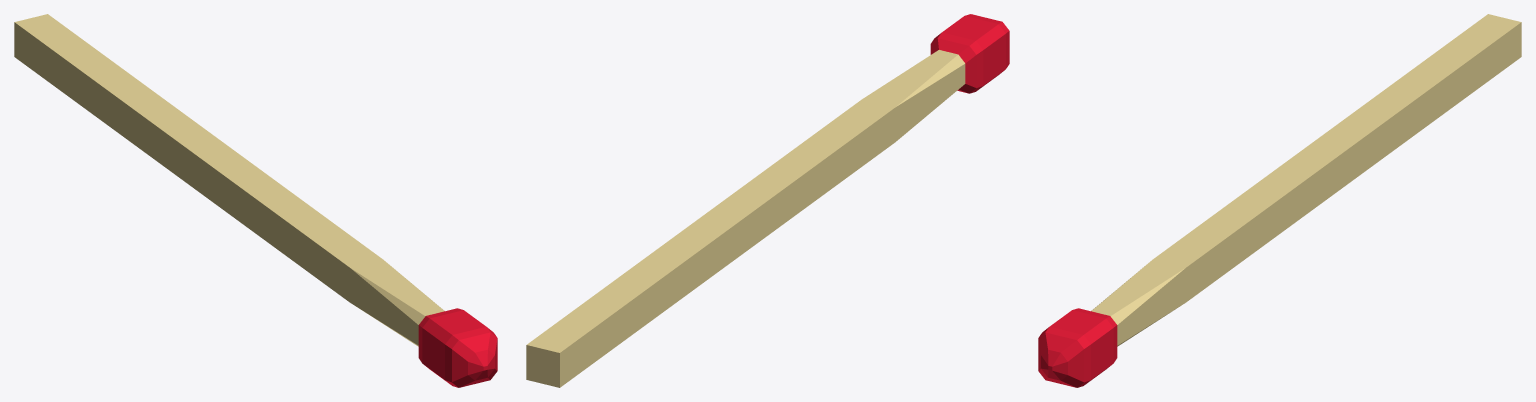
Rendered from match.fbx.
The picture shows the model from 3 angles, left to right: view 1: azimuth 30°, elevation 25°; view 2: azimuth 150°, elevation 25°; view 3: azimuth 330°, elevation 25°; orthographic projection.
Parts seen in each view (by area): view 1: Cube.002; view 2: Cube.002; view 3: Cube.002.
Part boxes in pixels (x1,y1,x2,y2): Cube.002: (14,14,497,387); Cube.002: (526,14,1009,387); Cube.002: (1038,14,1521,387).
Size of the model in its own units: 22.43 by 22.43 by 362.
